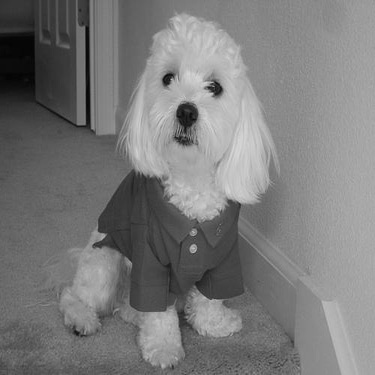dog: (41, 7, 286, 372)
